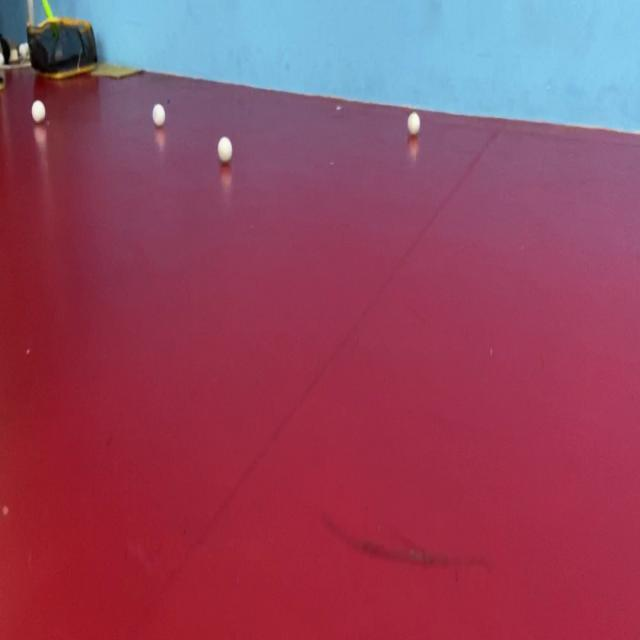ping-pong-ball: (403, 101, 425, 142), (148, 96, 170, 134), (27, 92, 50, 128), (214, 130, 234, 166)
